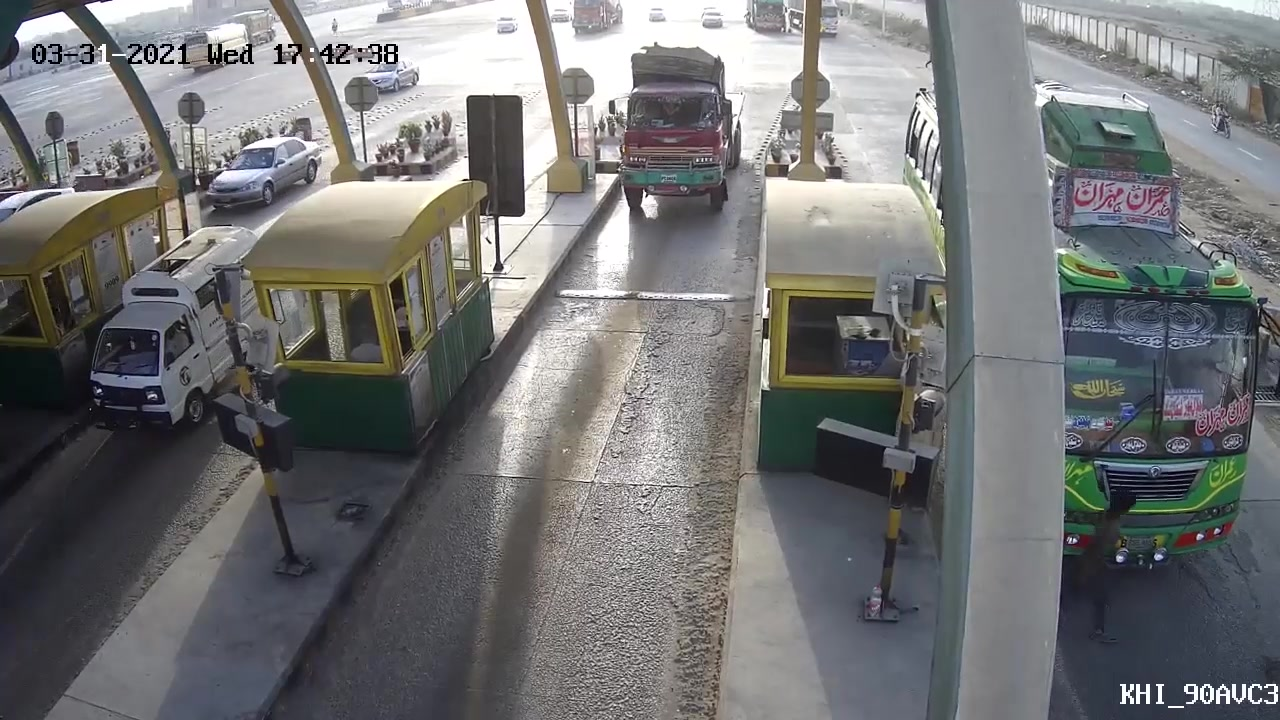F5: (598, 47, 748, 219)
